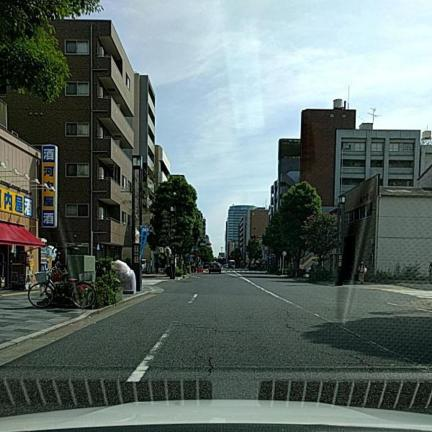Road: (0, 272, 431, 415)
